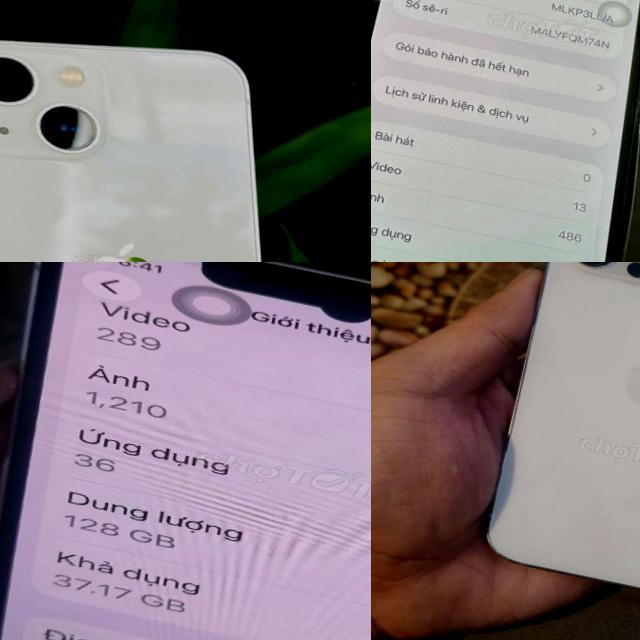gen_12_13: (0, 262, 371, 640), (0, 0, 363, 262), (371, 0, 640, 262), (482, 262, 640, 617)
